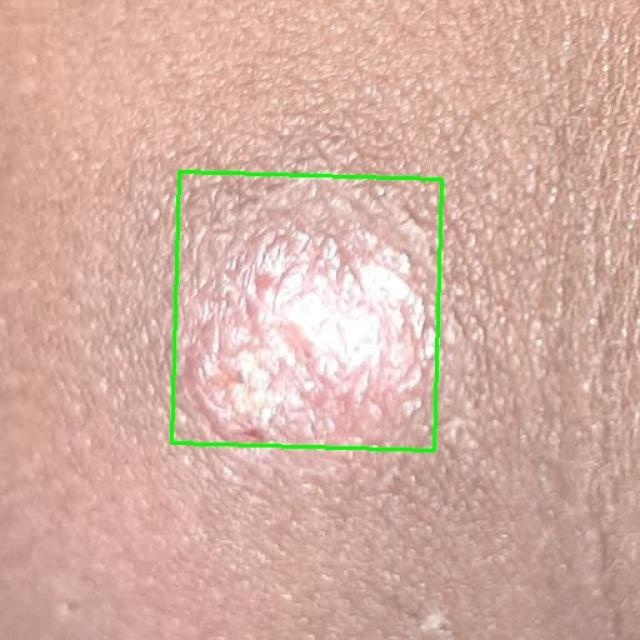Contact Dermatitis: (172, 172, 442, 450)
